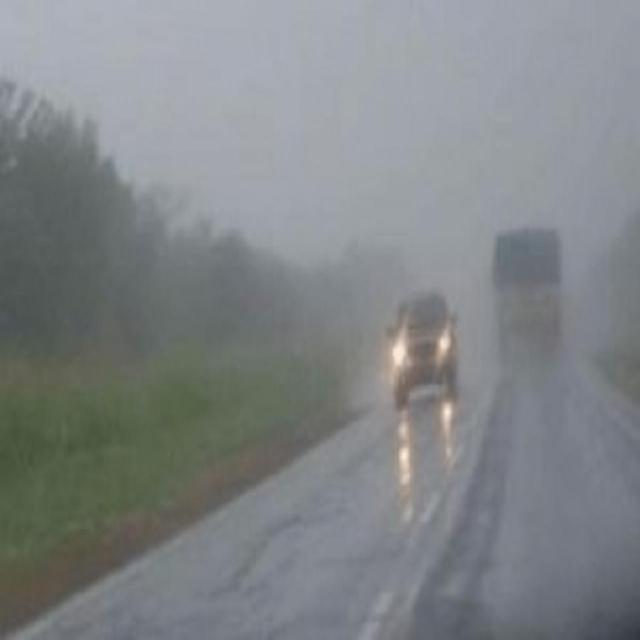Car: (386, 272, 461, 424)
Truck: (488, 214, 574, 367)
